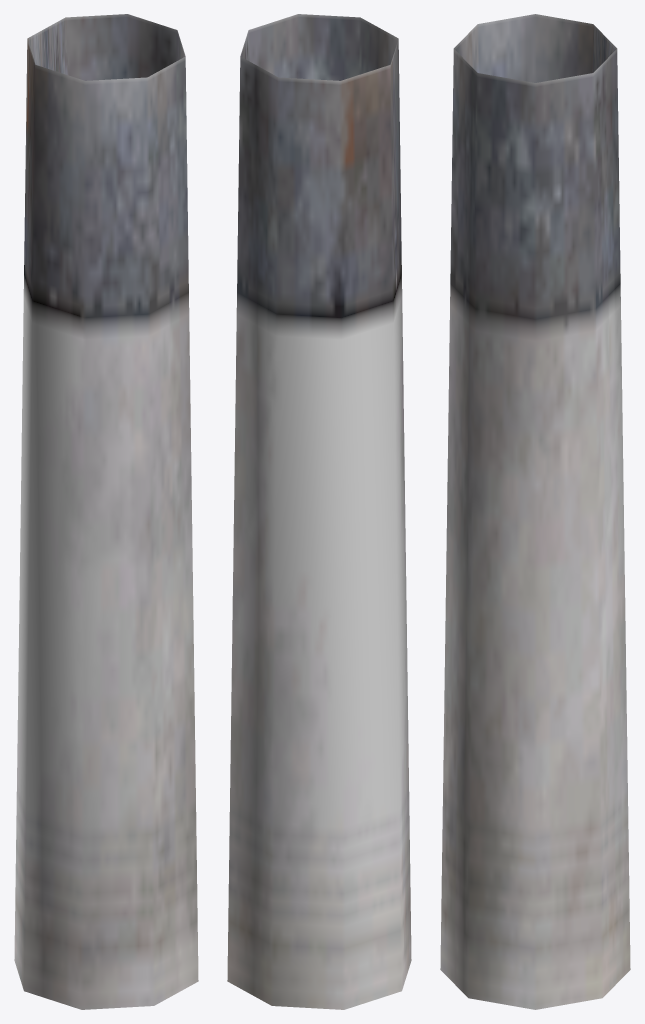
The model's file is edb_con_tato_cup_s3_l1.fbx.
The picture shows the model from 3 angles, left to right: view 1: azimuth 30°, elevation 25°; view 2: azimuth 150°, elevation 25°; view 3: azimuth 270°, elevation 25°; orthographic projection.
Parts seen in each view (by area): view 1: mesh_node; view 2: mesh_node; view 3: mesh_node.
Part boxes in pixels (<box>): mesh_node: <box>14,14,198,1009</box>; mesh_node: <box>227,14,411,1009</box>; mesh_node: <box>440,14,630,1009</box>.
Size of the model in its own units: 0.0692 by 0.3702 by 0.0692.
